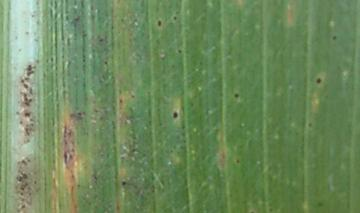tarspot: (313, 76, 324, 85), (71, 15, 82, 24), (316, 201, 327, 209), (171, 111, 180, 120), (233, 91, 242, 100), (155, 18, 163, 28), (171, 13, 178, 22), (97, 36, 106, 43), (234, 158, 241, 165), (306, 121, 313, 128), (330, 34, 338, 40), (175, 48, 184, 53), (121, 180, 128, 186), (102, 59, 109, 65), (118, 97, 124, 103)
